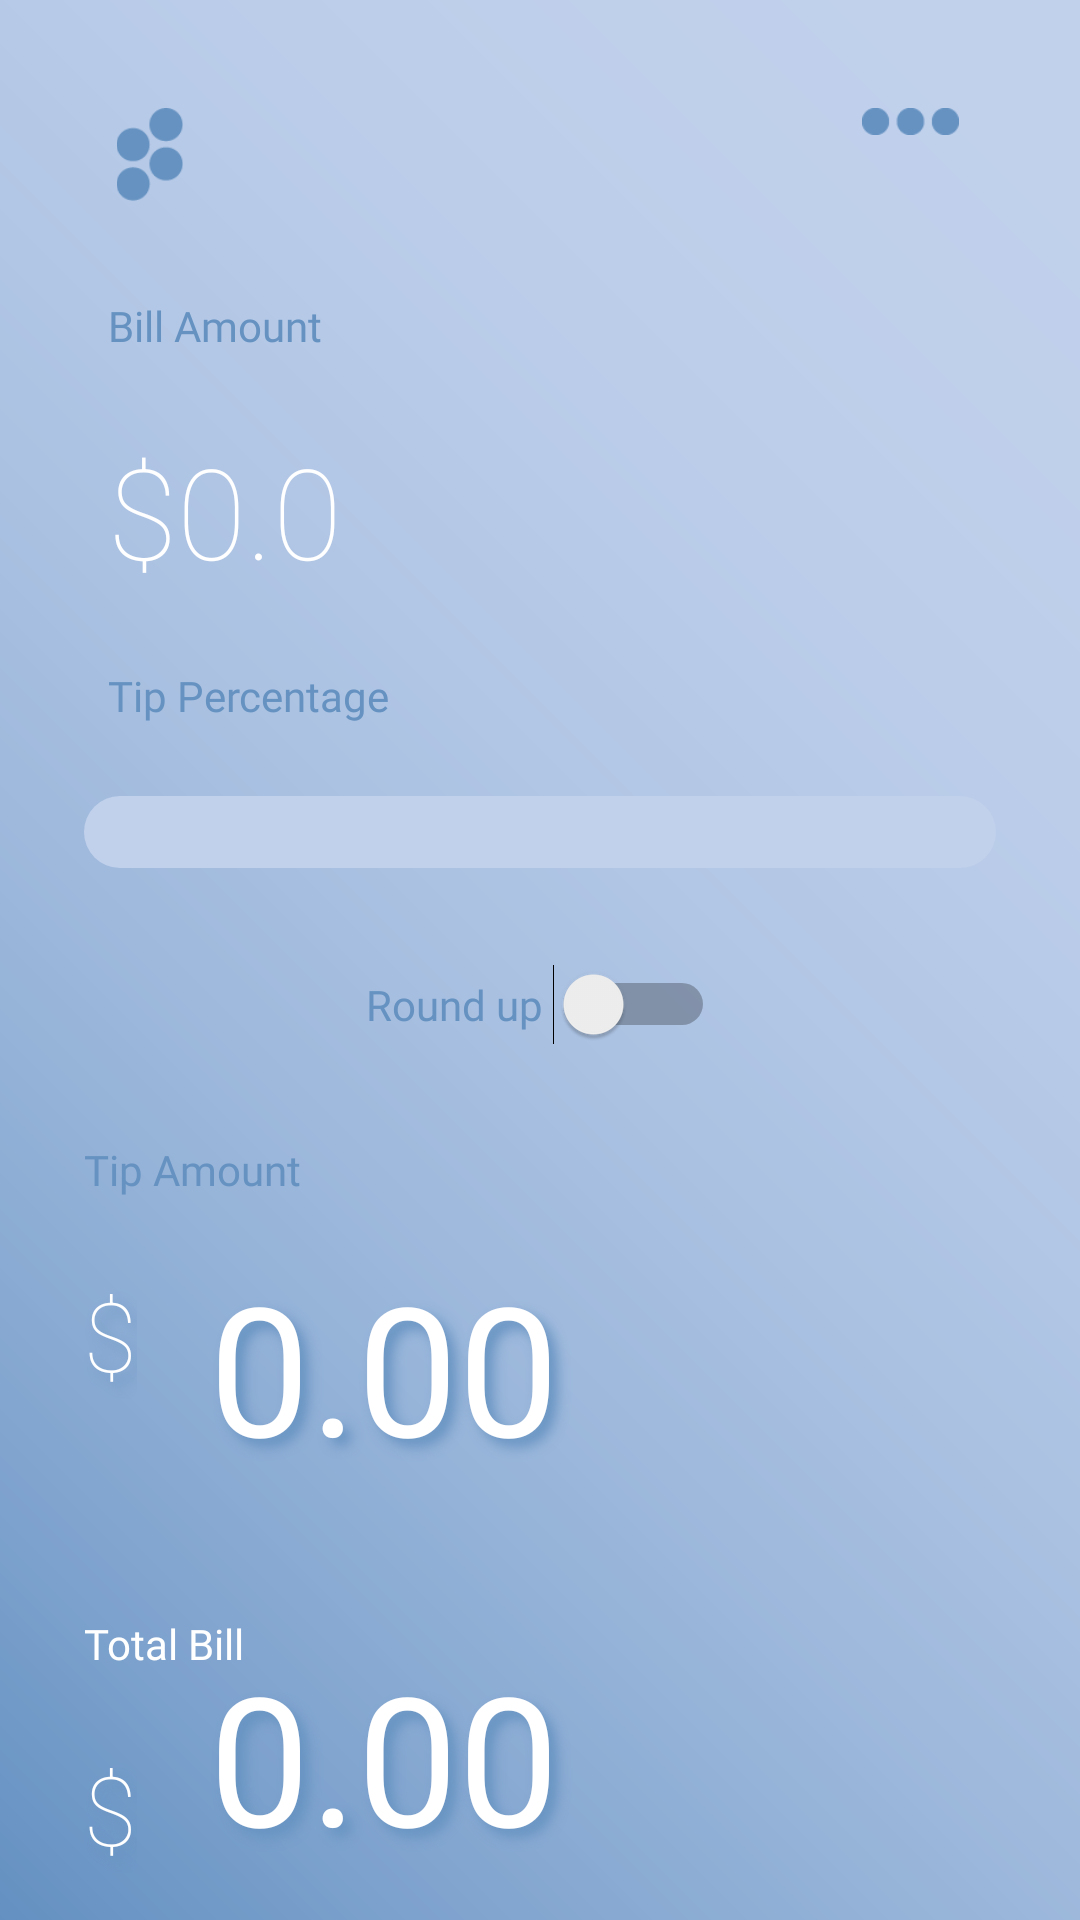

Where to tap for icons on this 1080w x 1920h app screen, as [x,y]:
dots: [150,154], [910,121]
